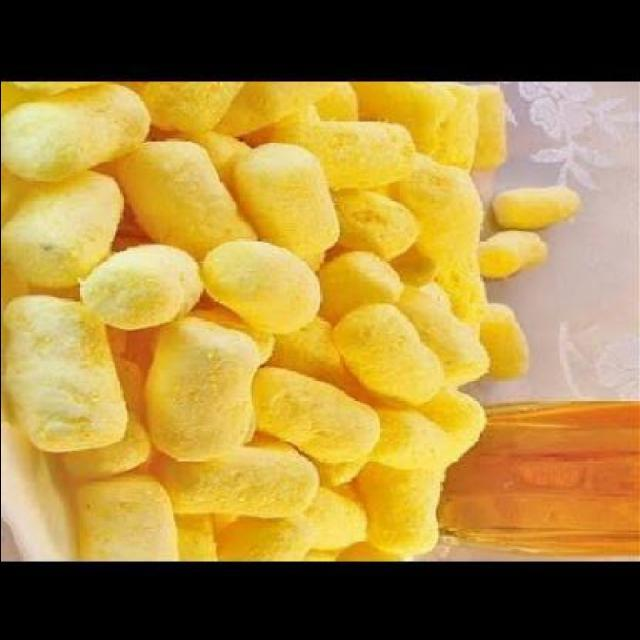Chips packaged: (3, 287, 132, 458), (154, 325, 258, 463), (242, 138, 344, 270), (329, 302, 449, 414), (236, 372, 384, 462), (200, 236, 324, 336), (162, 442, 318, 520), (83, 242, 203, 340)
